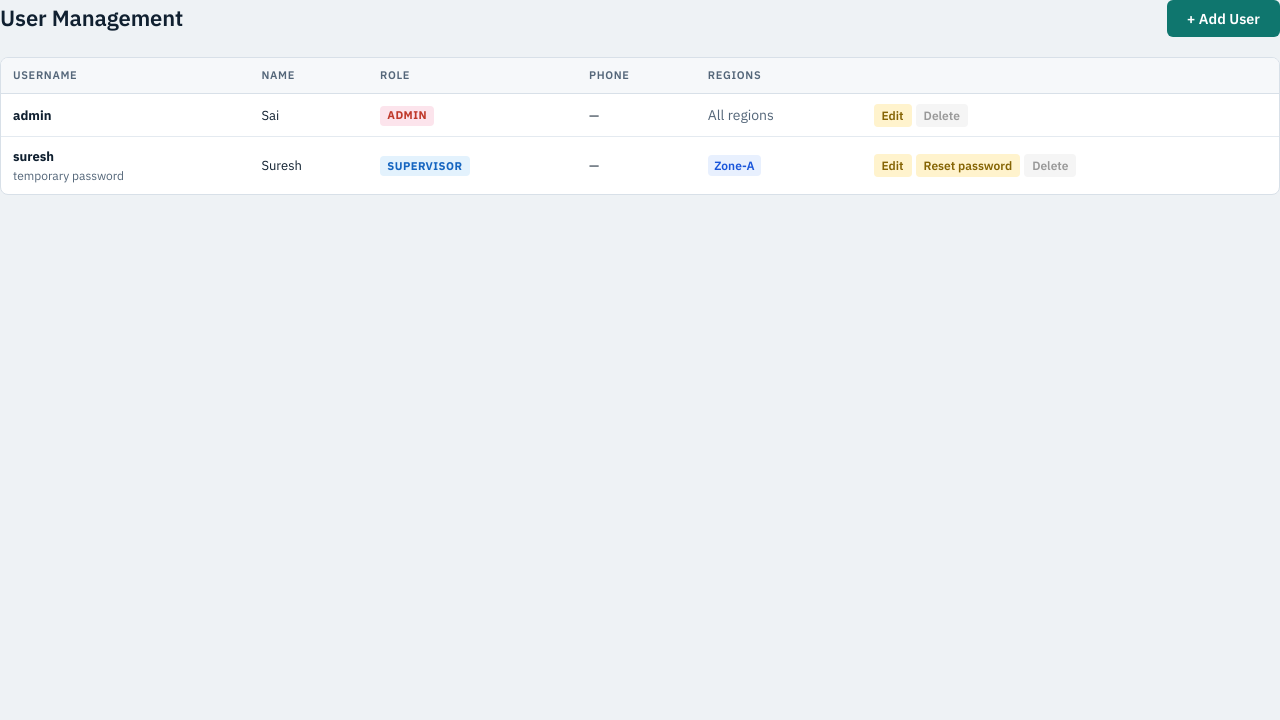
it: missing password gives a clear message, nothing is sent
Click the button "+ Add User": (1223, 18) x1=1167 y1=0 x2=1279 y2=37
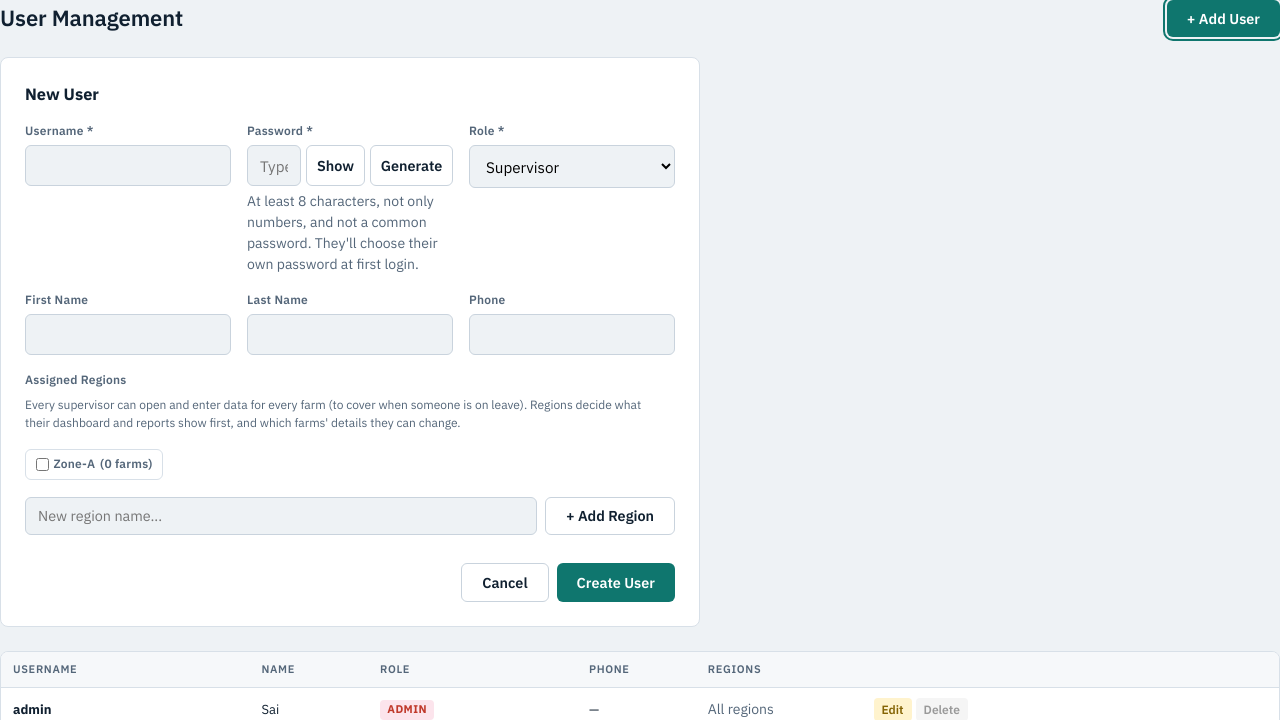
In the field below "Username *": (128, 166) x1=25 y1=145 x2=231 y2=186, type "ravi"
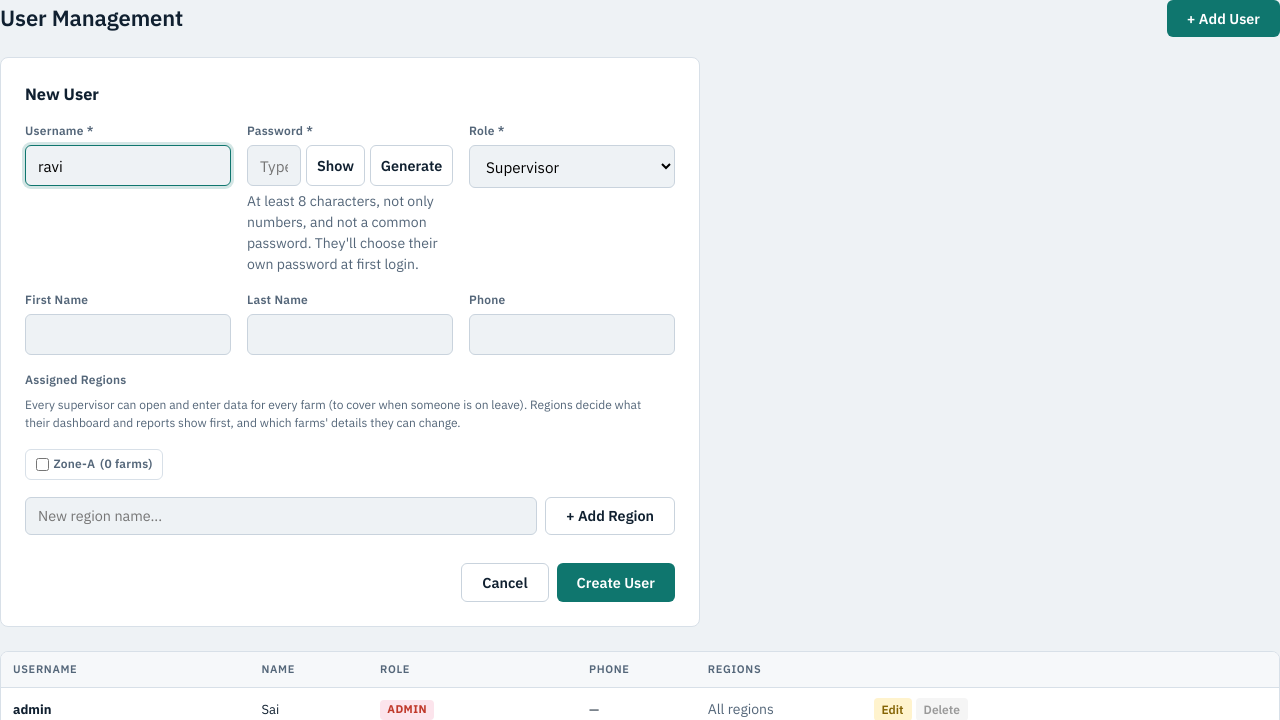
Click the button "Create User": (616, 582) x1=557 y1=563 x2=675 y2=602
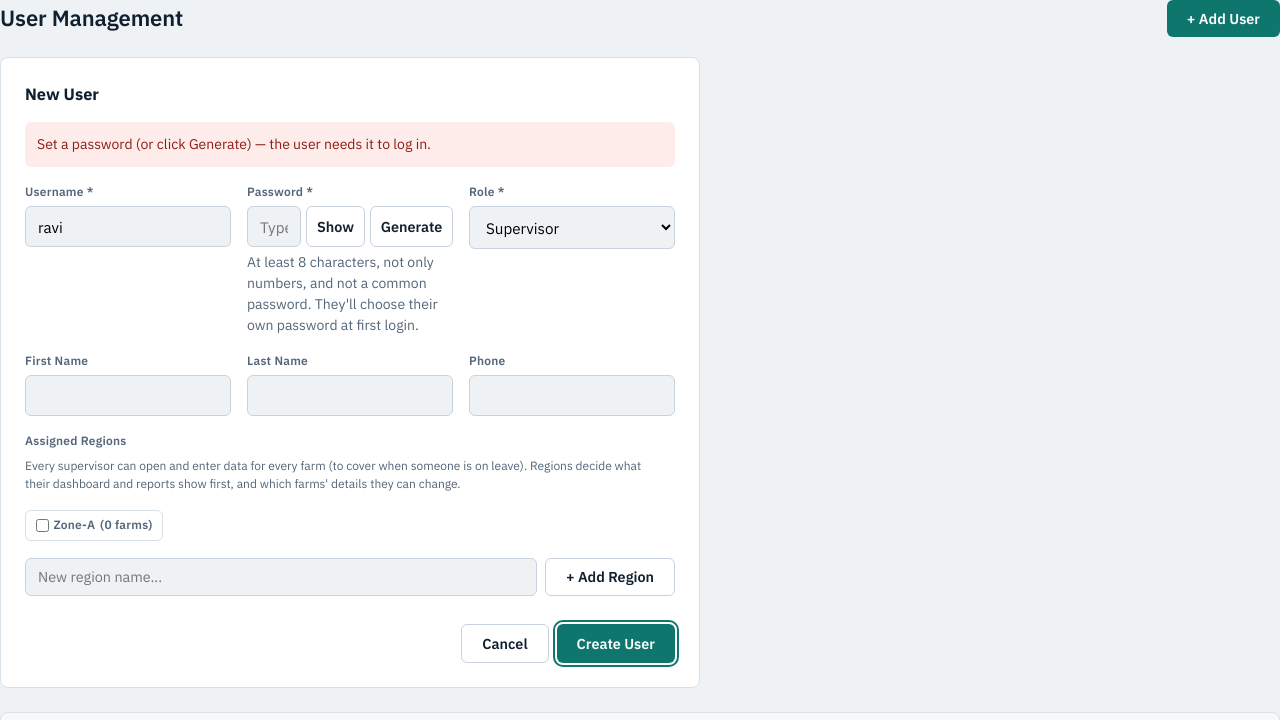
Expected: the text "needs it to log in" is shown, x1=37 y1=135 x2=431 y2=153
